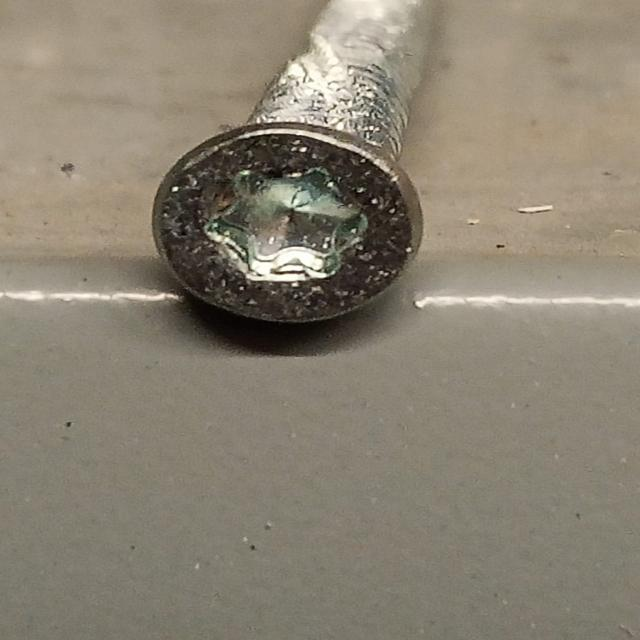torx: (152, 124, 426, 328)
